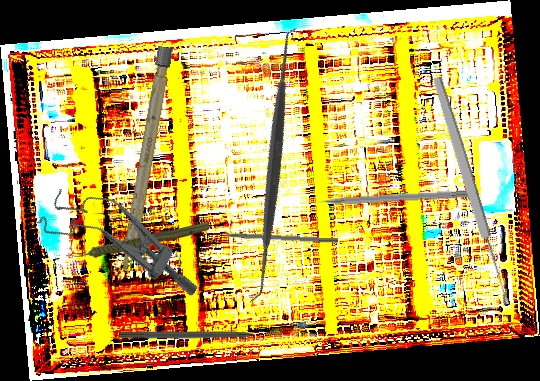Handpiece: (67, 218, 210, 262)
Hook Surgical: (204, 230, 339, 244), (119, 331, 273, 340)
Pusher: (299, 187, 479, 207)
Scalpel Handle: (118, 45, 174, 274)
Spatula Surgical: (137, 27, 410, 303)
Speculum: (34, 173, 216, 308)
Surgical Spoon: (430, 75, 513, 307)
